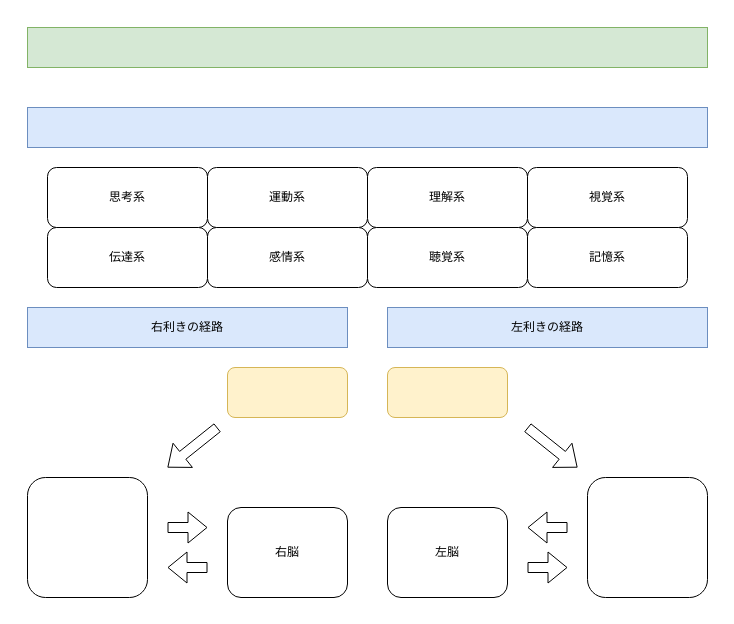
This 734x624 diagram has some shape labels left out. The centre of each missing label's shape, as x and y in pixels:
すごい左利き 脳番地と利き手: (x=367, y=47)
右手: (x=287, y=392)
右脳 【得意】 非言語理解 他者感情: (x=647, y=537)
左手: (x=447, y=392)
左脳 【得意】 言語理解 自己感情: (x=87, y=537)
脳番地: (x=367, y=127)
